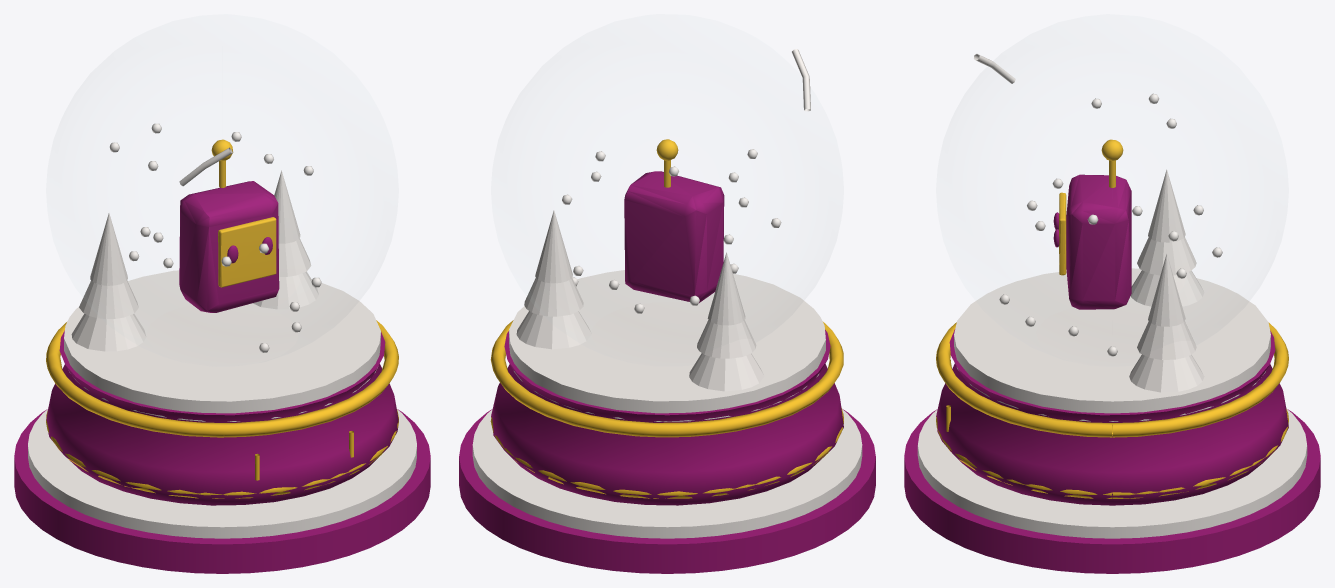
File: desk.toy.snow-globe.glb
3 views of the same model, side by side, from view 1: azimuth 30°, elevation 25°; view 2: azimuth 150°, elevation 25°; view 3: azimuth 270°, elevation 25° (orthographic).
Parts seen in each view (by area): view 1: snow_field, music_box_base, stand_base, stand_trim, winter_emi, gold_base_ring.001, winter_screen, snow_tree, snow_tree.001, snow_tree.002, gold_base_ring, snow_tree.003 (+2 smaller); view 2: music_box_base, snow_field, stand_base, stand_trim, winter_emi, gold_base_ring.001, snow_tree, snow_tree.003, snow_tree.004, snow_tree.001, gold_base_ring, snow_tree.005 (+1 smaller); view 3: snow_field, music_box_base, stand_base, stand_trim, winter_emi, gold_base_ring.001, snow_tree.003, snow_tree.004, snow_tree.001, snow_tree.005, snow_tree.002, snow_tree (+2 smaller).
Boxes of the visible parts, x1,y1,x2,y2 form: snow_field: (64,270,380,421); music_box_base: (46,330,398,505); stand_base: (14,409,430,573); stand_trim: (28,409,416,538); winter_emi: (179,181,279,312); gold_base_ring.001: (46,320,398,437); winter_screen: (218,217,276,287); snow_tree: (71,313,146,351); snow_tree.001: (79,280,138,319); snow_tree.002: (90,213,127,285); gold_base_ring: (46,410,398,498); snow_tree.003: (253,271,318,309); music_box_base: (491,330,843,505); snow_field: (509,270,825,421); stand_base: (459,409,875,573); stand_trim: (472,409,862,538); winter_emi: (624,171,724,302); gold_base_ring.001: (490,320,843,437); snow_tree: (689,353,764,391); snow_tree.003: (516,311,591,349); snow_tree.004: (524,278,583,316); snow_tree.001: (697,319,756,358); gold_base_ring: (490,407,843,498); snow_tree.005: (535,210,572,283); snow_field: (954,268,1270,421); music_box_base: (936,329,1288,505); stand_base: (904,409,1320,573); stand_trim: (917,408,1307,538); winter_emi: (1066,174,1131,309); gold_base_ring.001: (936,322,1288,437); snow_tree.003: (1129,354,1204,392); snow_tree.004: (1137,321,1196,359); snow_tree.001: (1137,237,1196,275); snow_tree.005: (1148,253,1185,326); snow_tree.002: (1148,169,1185,242); snow_tree: (1130,270,1204,306).
Bounding box in the file's own units: 0.48 × 0.5791 × 0.48.
